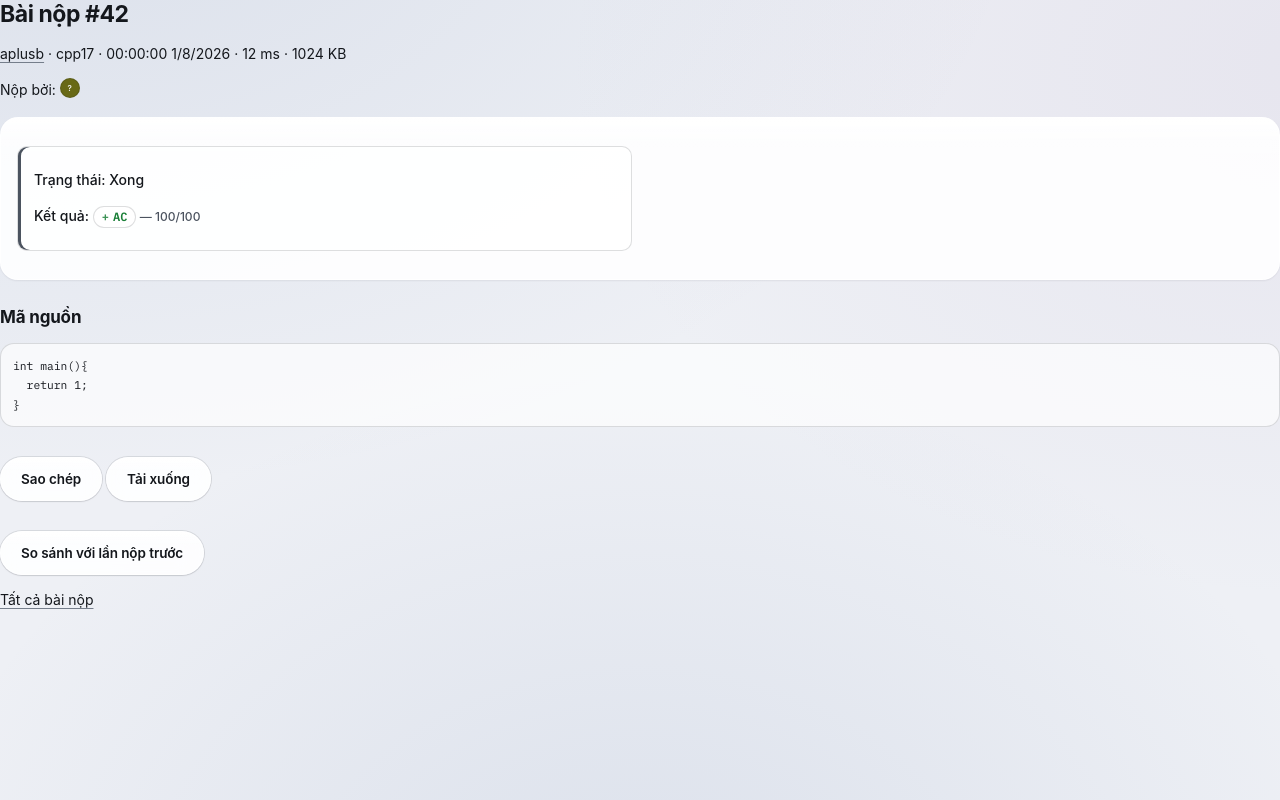
Test: SubmissionPage — compare with previous attempt › shows the toggle and renders the diff with +/- glyphs on demand
Click the button "So sánh với lần nộp trước".
click(102, 553)  # box 0,531 -> 204,575
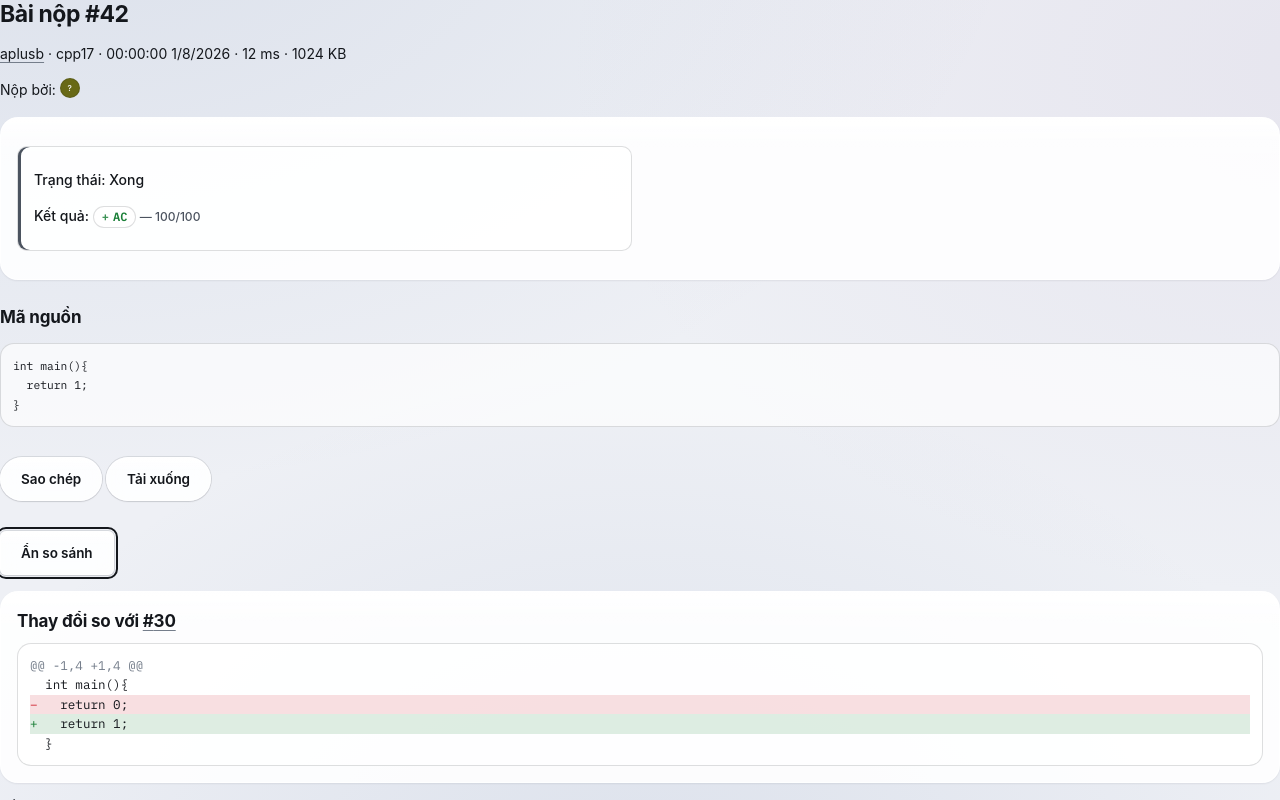
Expected: the text "−" is shown, 30,696 -> 38,712
Expected: the text "+" is shown, 30,715 -> 38,731
